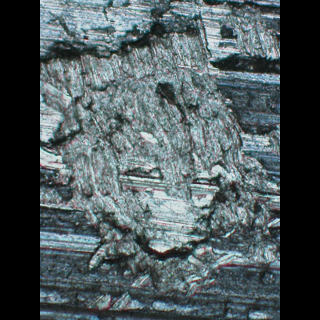d: (40, 1, 277, 315)
